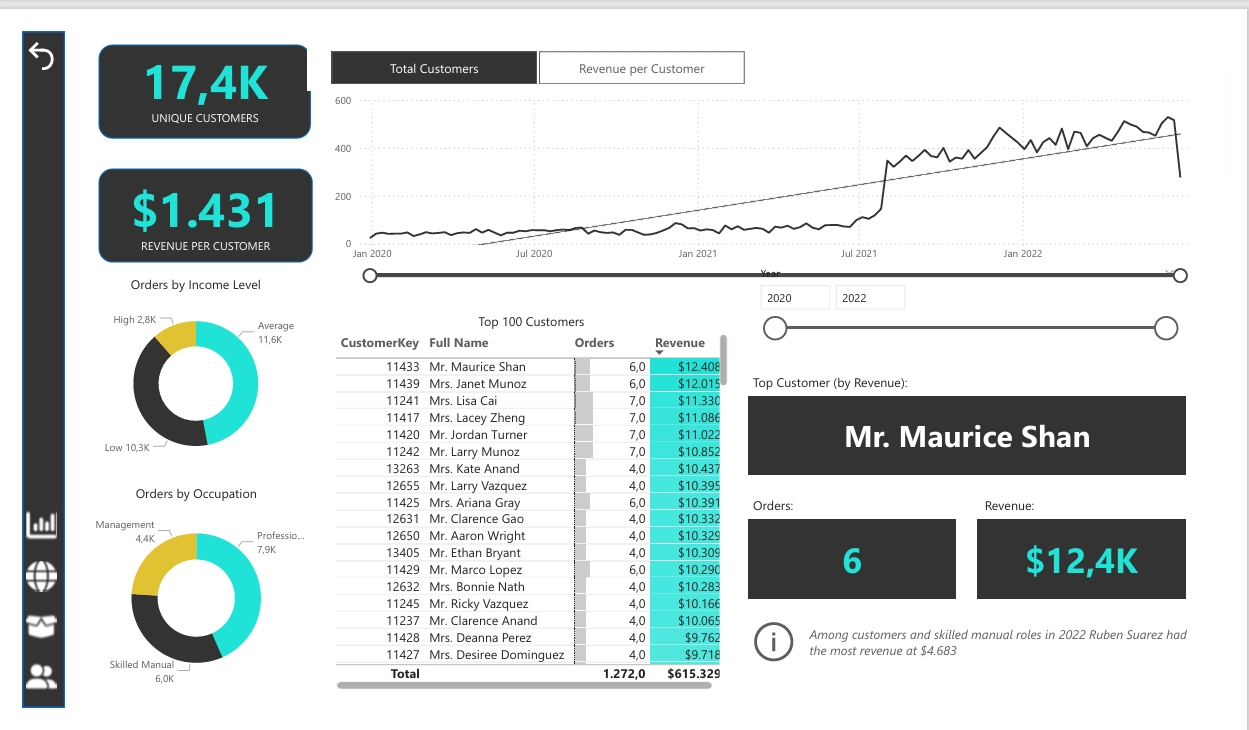

What the dashboard file says about the page in this screenshot:
{"tool":"powerbi","page":{"name":"Customer Detail","canvas":[1280,720],"ordinal":3},"visuals":[{"type":"shape","box":[0,0,45,720],"z":0},{"type":"shape","box":[81.4,14.3,226,100],"z":1000},{"type":"actionButton","box":[0,505.7,44.3,40],"z":1000,"group":"g1"},{"type":"shape","box":[81.4,146.3,228,100],"z":2000},{"type":"actionButton","box":[0,560,44.3,40],"z":2000,"group":"g1"},{"type":"card","fields":{"Values":["Measure Table.Average Revenue per Customer"]},"box":[61.4,150,267.1,90],"z":3000},{"type":"actionButton","box":[0,613.3,44.3,40],"z":3000,"group":"g1"},{"type":"card","fields":{"Values":["Measure Table.Total Customers"]},"box":[60,13.8,268.8,90],"z":4000},{"type":"actionButton","box":[0,667.1,44.3,40],"z":4000,"group":"g1"},{"type":"lineChart","fields":{"Y":["Measure Table.Total Customers"],"Category":["Calendar Lookup.Date Hierarchy.Start of Year","Calendar Lookup.Date Hierarchy.Start of Month","Calendar Lookup.Date Hierarchy.Start of Week","Calendar Lookup.Date Hierarchy.Date"]},"box":[327.1,58.6,931.4,212.9],"z":5000},{"type":"donutChart","title":"Orders by Income Level","fields":{"Category":["Customer Lookup.Income Level"],"Y":["Measure Table.Total Orders"]},"box":[58.6,260,251.4,212.9],"z":6000},{"type":"donutChart","title":"Orders by Occupation","fields":{"Y":["Measure Table.Total Orders"],"Category":["Customer Lookup.Occupation"]},"box":[60,482.9,250,224.3],"z":7000},{"type":"tableEx","title":"Top 100 Customers","fields":{"Values":["Customer Lookup.CustomerKey","Customer Lookup.FullName","Measure Table.Total Orders","Measure Table.Total Revenue"]},"box":[327.5,300,428.8,406.2],"z":8000},{"type":"card","fields":{"Values":["Measure Table.Full Name (Customer Detail)"]},"box":[772.9,388.6,465.7,84.3],"z":9000},{"type":"card","fields":{"Values":["Measure Table.Total Revenue (Customer Detail)"]},"box":[1017.1,520.4,221.4,84.3],"z":10000},{"type":"card","fields":{"Values":["Measure Table.Total Orders (Customer Detail)"]},"box":[772.9,520.4,221.4,84.3],"z":11000},{"type":"textbox","box":[772.9,360,221.4,142.9],"z":12000},{"type":"textbox","box":[1016.4,490.9,222.5,30],"z":13000},{"type":"textbox","box":[773.4,490.9,221,30],"z":14000},{"type":"slicer","fields":{"Values":["Calendar Lookup.Year"]},"box":[773.4,246.2,465.6,113.6],"z":15000},{"type":"actionButton","box":[772.9,622.9,485.7,54.3],"z":16000},{"type":"actionButton","box":[0,5.7,45.7,40],"z":17000},{"type":"group","id":"g1","title":"Navigation Buttons","box":[0,505.7,44.3,201.4],"z":18000},{"type":"slicer","fields":{"Values":["Customer Metric Selection.Customer Metric Selection"]},"box":[302.9,14.3,490,48.6],"z":20001}]}

Visuals, with their boxes on the page's 1280x720 design canvas (x1, y1, x2, y2). These are canvas units, not pixel positions in the 1249x730 screenshot, which may show the page scaled, cropped or inside an application window:
shape: crop(0, 0, 45, 720)
shape: crop(81, 14, 307, 114)
actionButton: crop(0, 506, 44, 546)
shape: crop(81, 146, 309, 246)
actionButton: crop(0, 560, 44, 600)
card - Measure Table.Average Revenue per Customer: crop(61, 150, 328, 240)
actionButton: crop(0, 613, 44, 653)
card - Measure Table.Total Customers: crop(60, 14, 329, 104)
actionButton: crop(0, 667, 44, 707)
lineChart - Measure Table.Total Customers x Calendar Lookup.Date Hierarchy.Start of Year: crop(327, 59, 1258, 272)
"Orders by Income Level" donutChart: crop(59, 260, 310, 473)
"Orders by Occupation" donutChart: crop(60, 483, 310, 707)
"Top 100 Customers" tableEx: crop(328, 300, 756, 706)
card - Measure Table.Full Name (Customer Detail): crop(773, 389, 1239, 473)
card - Measure Table.Total Revenue (Customer Detail): crop(1017, 520, 1238, 605)
card - Measure Table.Total Orders (Customer Detail): crop(773, 520, 994, 605)
textbox: crop(773, 360, 994, 503)
textbox: crop(1016, 491, 1239, 521)
textbox: crop(773, 491, 994, 521)
slicer - Calendar Lookup.Year: crop(773, 246, 1239, 360)
actionButton: crop(773, 623, 1259, 677)
actionButton: crop(0, 6, 46, 46)
"Navigation Buttons" group: crop(0, 506, 44, 707)
slicer - Customer Metric Selection.Customer Metric Selection: crop(303, 14, 793, 63)
